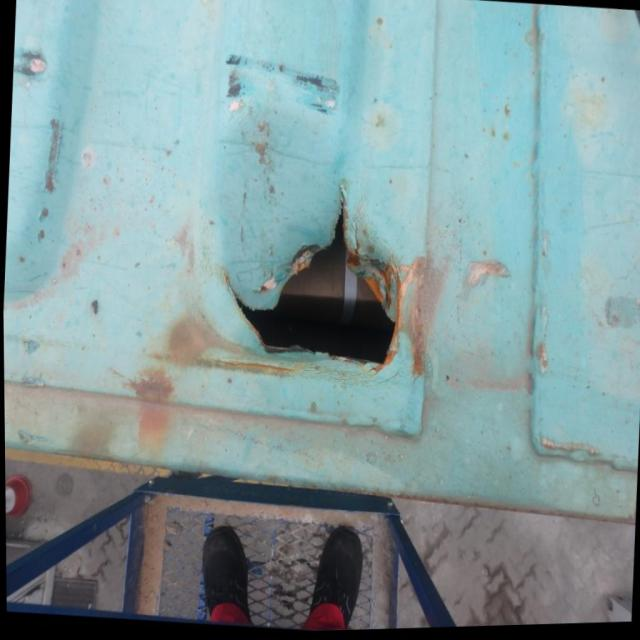hole: (217, 180, 407, 380)
